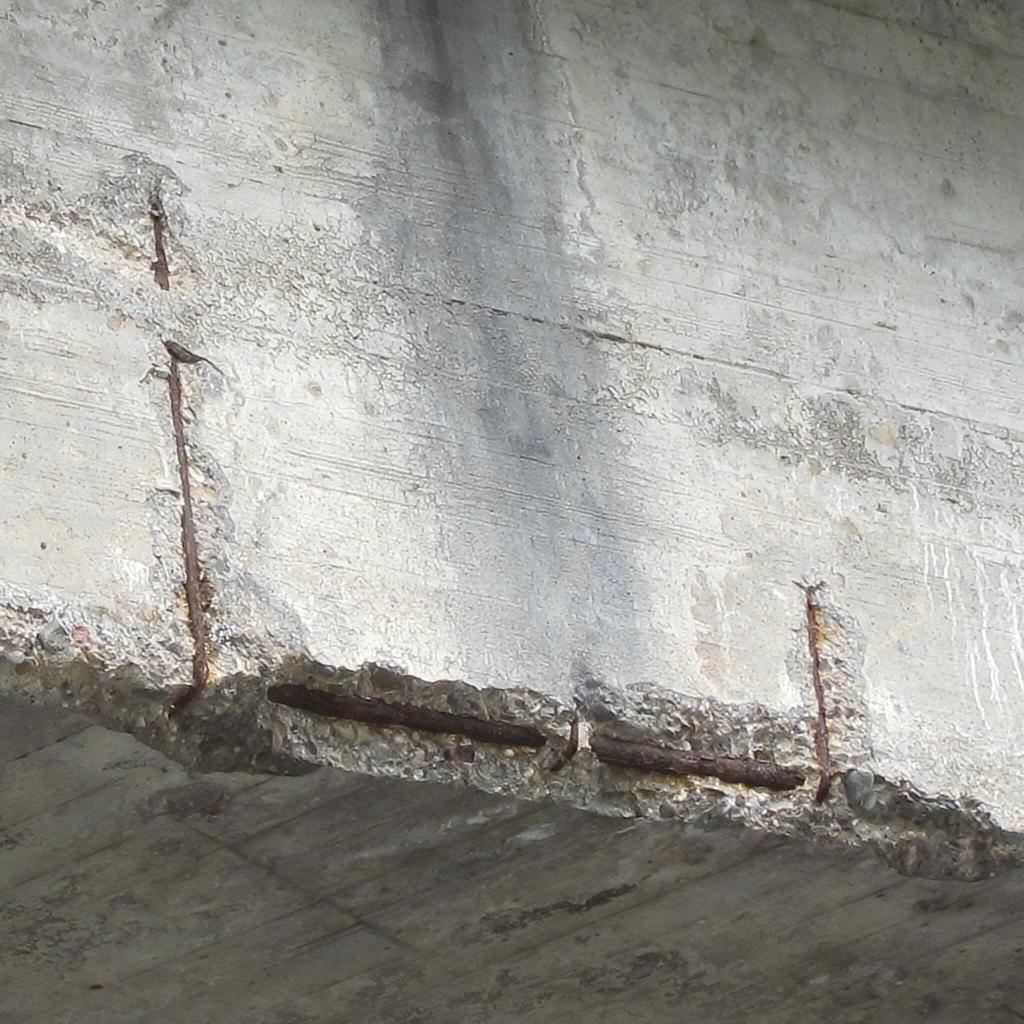exposed_rebar: (268, 684, 546, 747), (166, 352, 210, 715), (590, 734, 804, 790), (806, 586, 832, 803), (150, 214, 170, 290), (550, 720, 578, 772)
spalling: (0, 316, 1024, 877), (68, 162, 192, 303)
